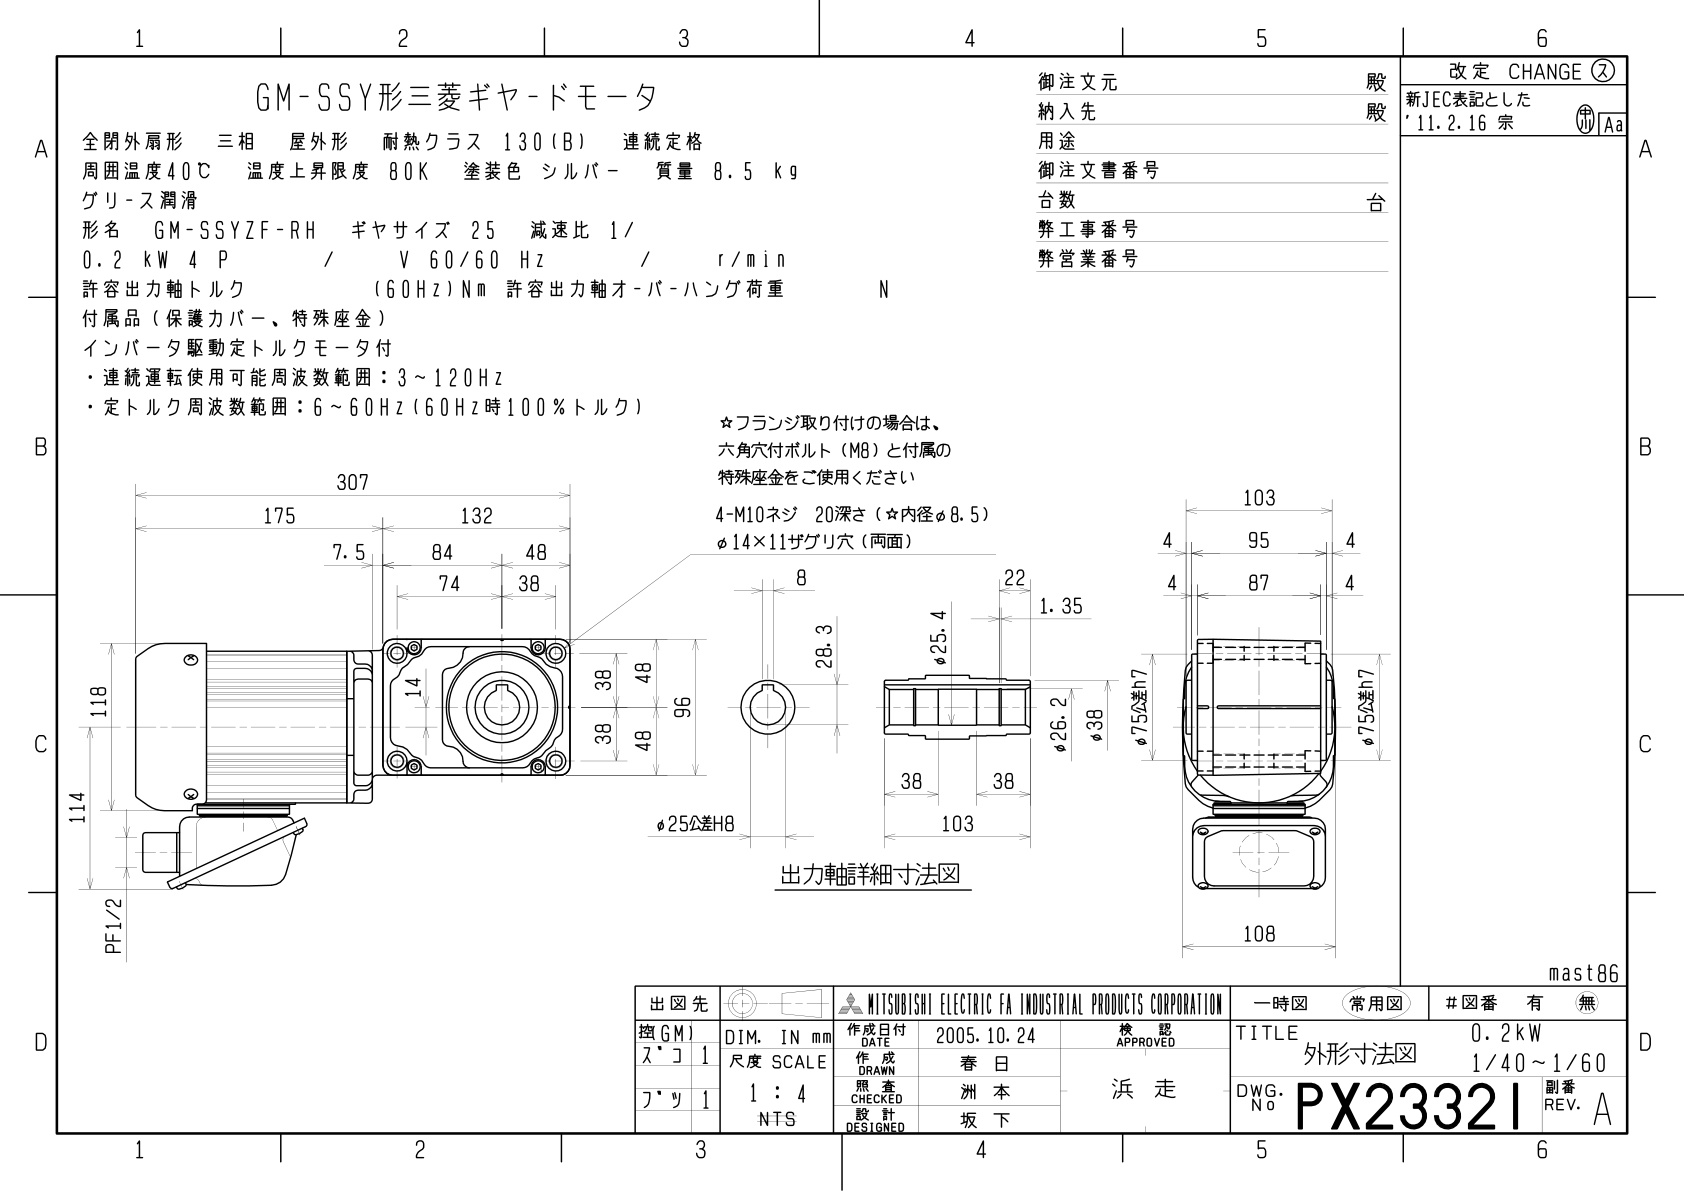GM_SSY_インバータ屋外_三相: (1, 1, 1669, 1178)
